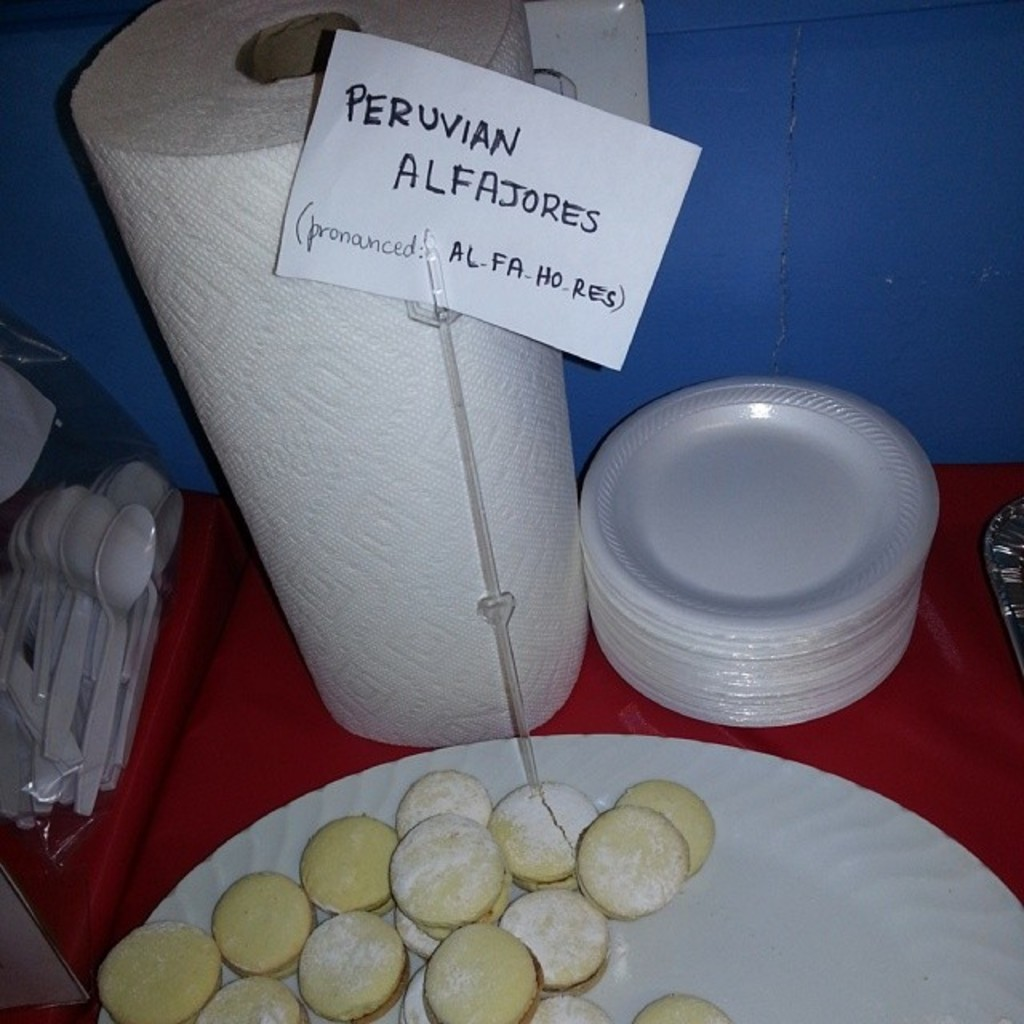plate: (566, 384, 934, 657)
